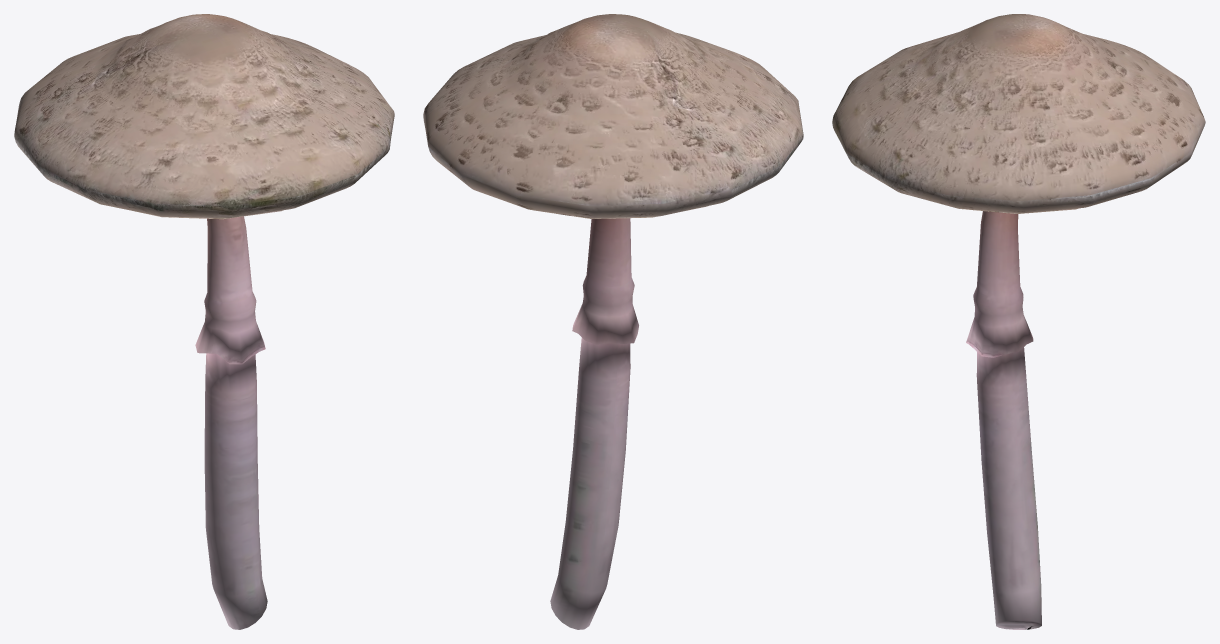
Rendered from mushroom3.glb.
The picture shows the model from 3 angles, left to right: view 1: azimuth 30°, elevation 25°; view 2: azimuth 150°, elevation 25°; view 3: azimuth 270°, elevation 25°; orthographic projection. The views are drawn at different scales.
Visible parts, largest first — view 1: Object_2; view 2: Object_2; view 3: Object_2.
Part boxes in pixels (left/top/right/bottom): Object_2: left=14, top=14, right=394, bottom=629; Object_2: left=423, top=14, right=803, bottom=629; Object_2: left=832, top=14, right=1205, bottom=629.
Bounding box in the file's own units: 5.68 × 9.95 × 5.68.
Materials: 1 (1 with a texture image).
